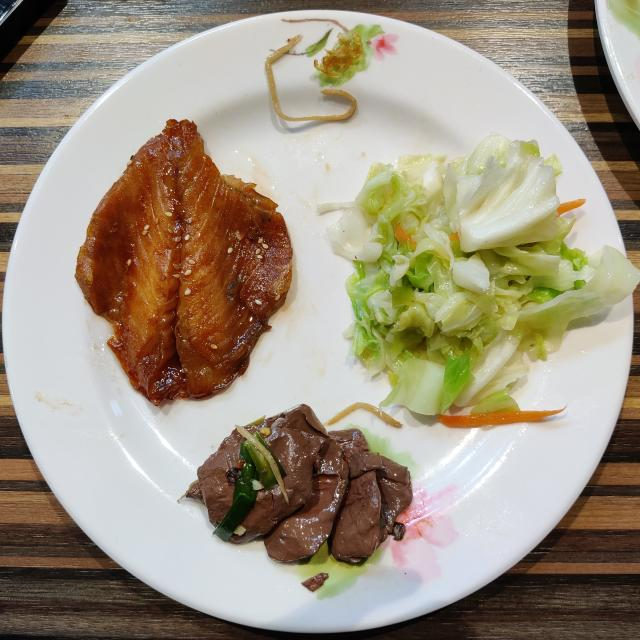Kabayaki sea bream fillet: (75, 120, 292, 405)
cabbage: (320, 134, 640, 426)
pig blood curd: (186, 404, 412, 562)
